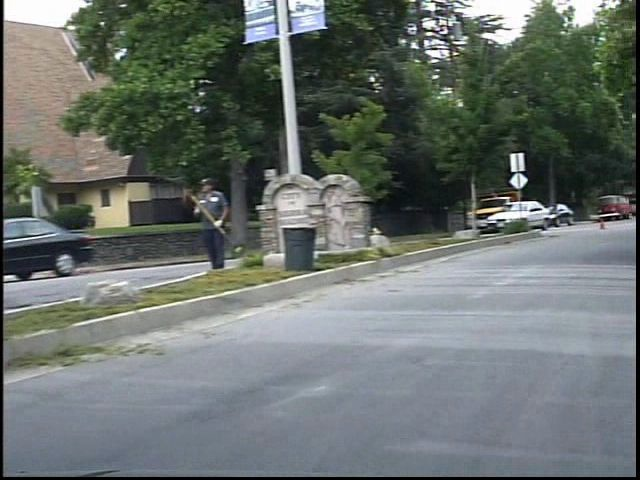person: (203, 173, 245, 273)
